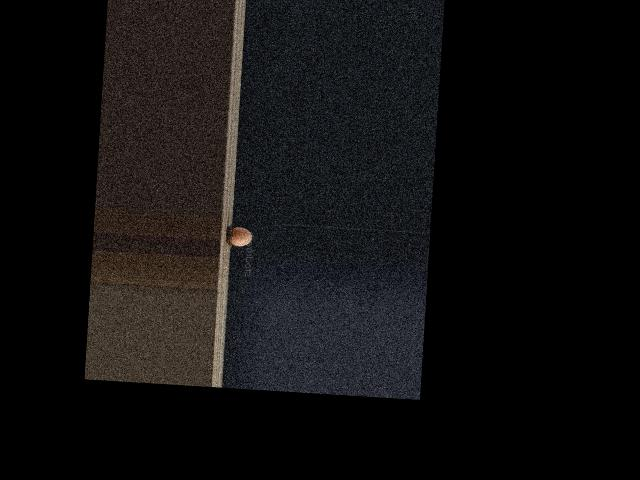egg: (230, 226, 252, 246)
